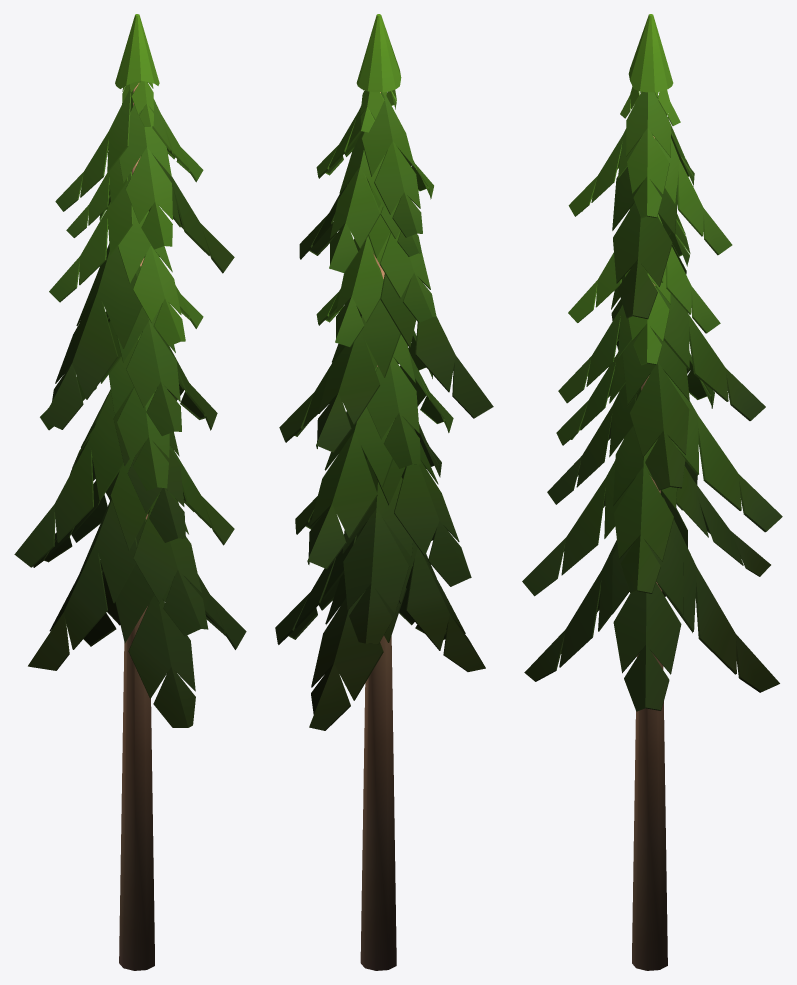
File: INSTANCE_PINE.glb
3 renders of one model, left to right at view 1: azimuth 30°, elevation 25°; view 2: azimuth 150°, elevation 25°; view 3: azimuth 270°, elevation 25°, orthographic.
Visible parts, largest first — view 1: Cylinder.009; view 2: Cylinder.009; view 3: Cylinder.009.
Boxes of the visible parts, <box> form: Cylinder.009: <box>14,14,246,970</box>; Cylinder.009: <box>275,14,493,970</box>; Cylinder.009: <box>522,14,782,970</box>.
Bounding box in the file's own units: 0.3641 × 1.53 × 0.3827.
2 materials, 2 textured.
